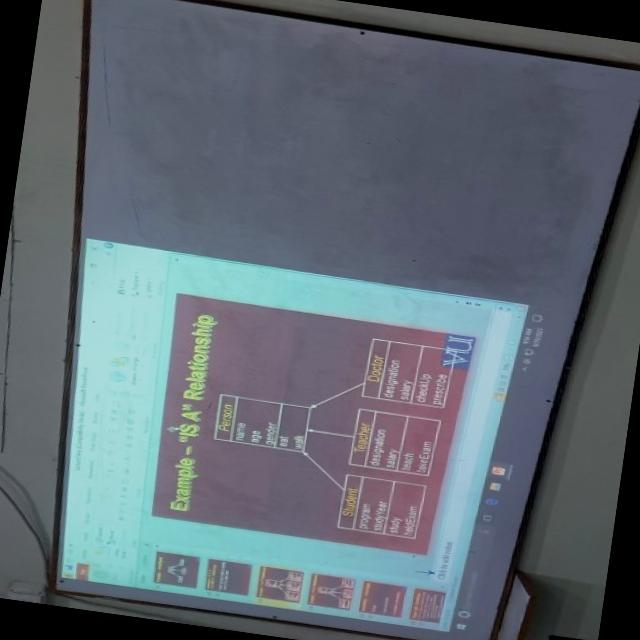Slide: (56, 238, 561, 633)
White-board: (52, 0, 640, 640)
